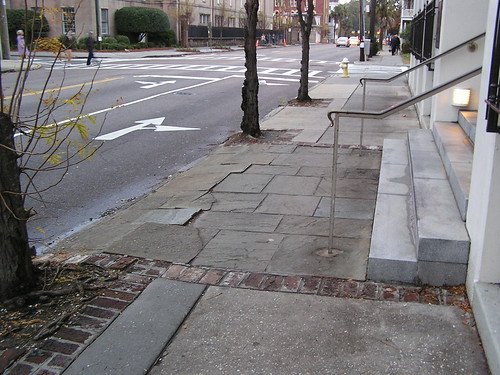crosswalk: (52, 48, 326, 88)
sidewalk: (1, 74, 473, 375)
street: (1, 46, 321, 222)
